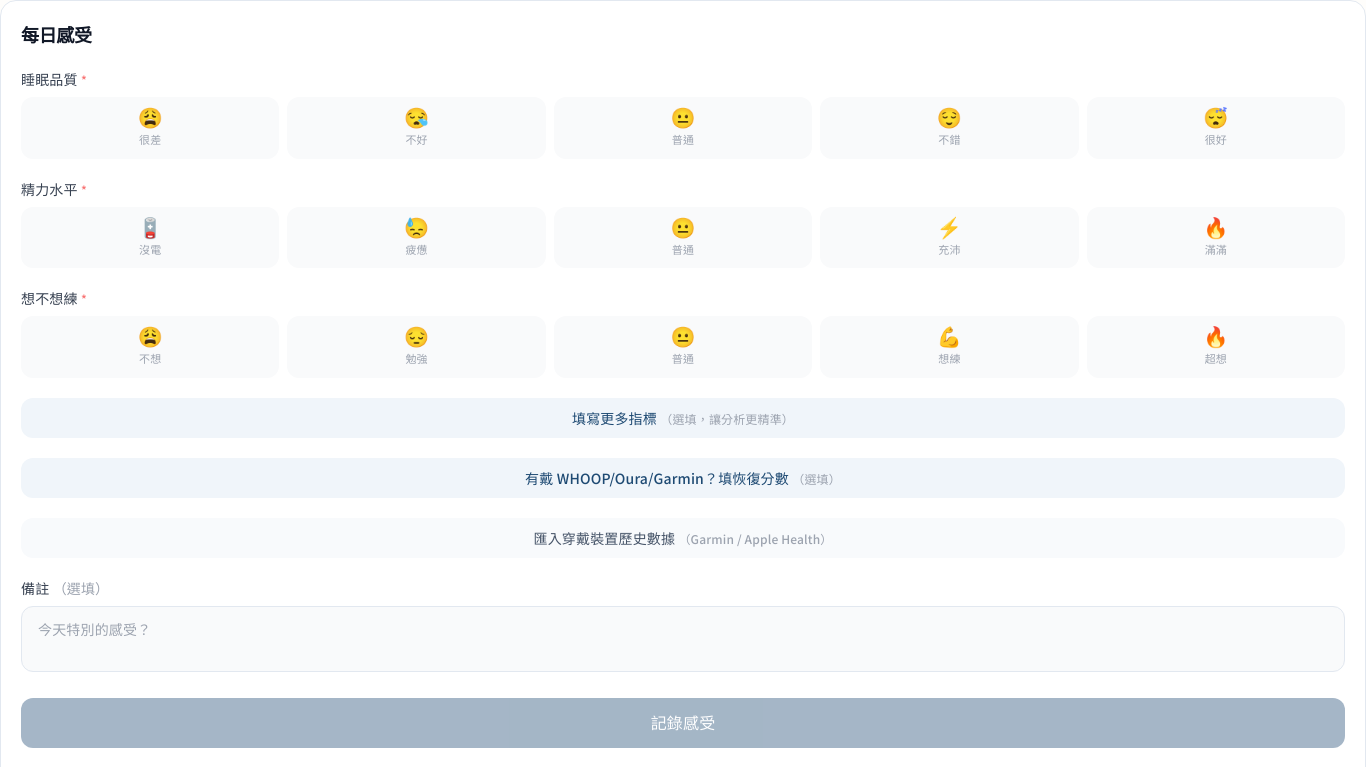
DailyWellness › enables the submit button after all three core fields are selected
The image size is (1366, 767).
Click the text "😌" at (949, 117), box [937,107,962,127]
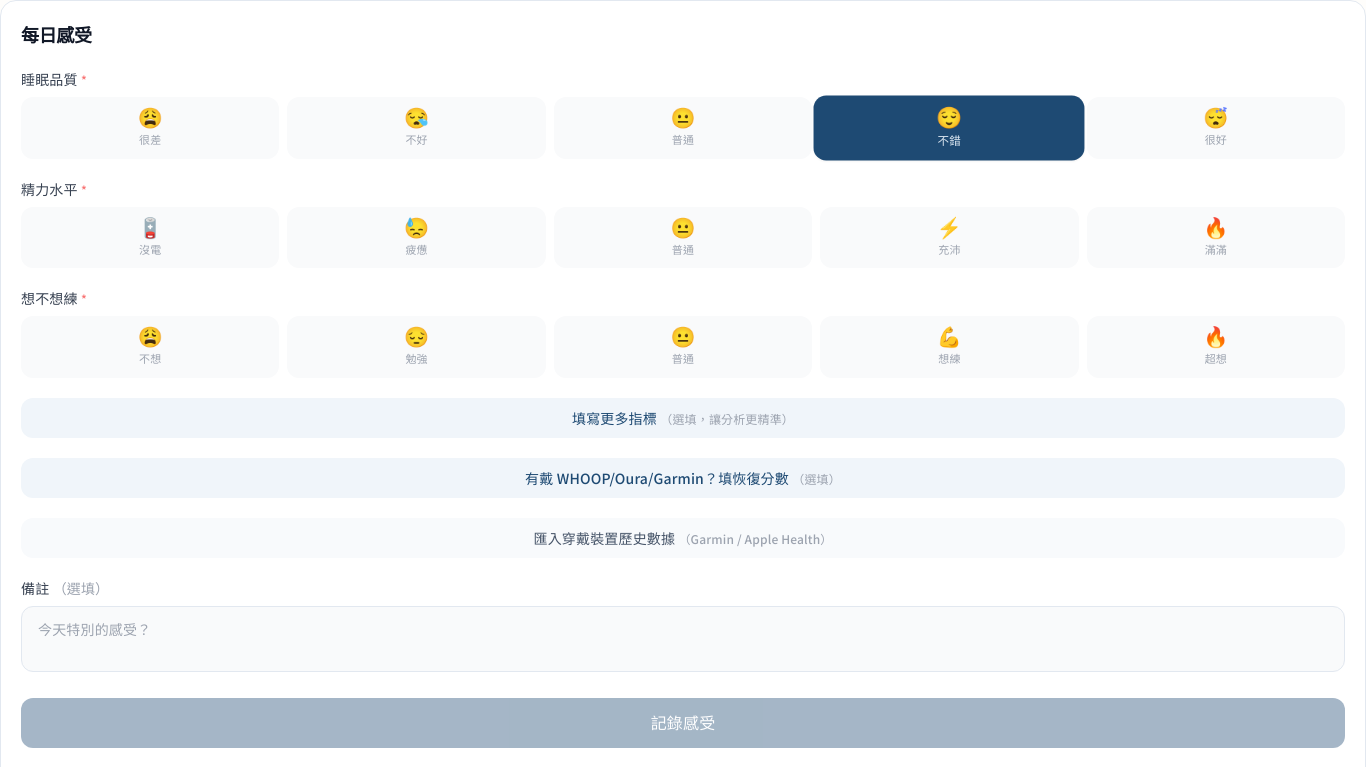
Click the text "⚡" at (949, 227), box [937,217,962,237]
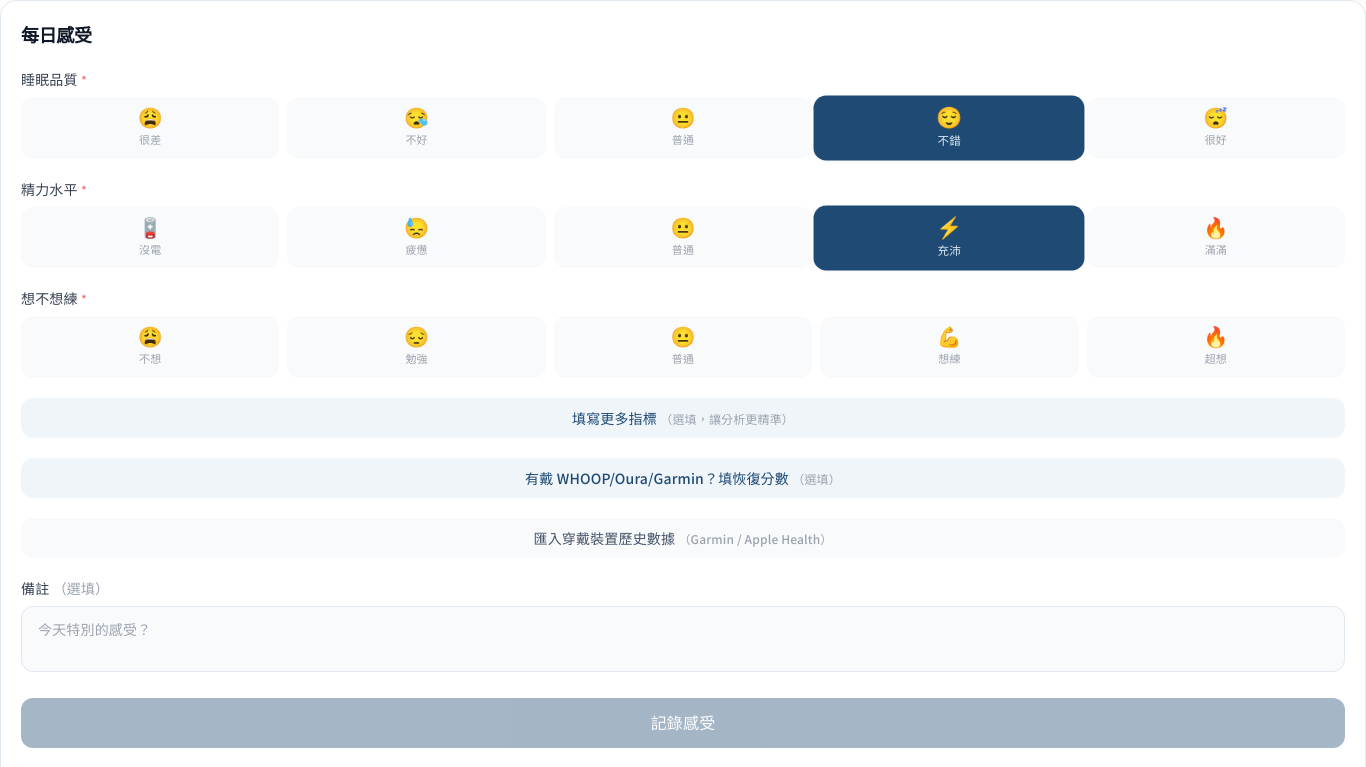
Click the text "💪" at (949, 336), box [937,326,962,346]
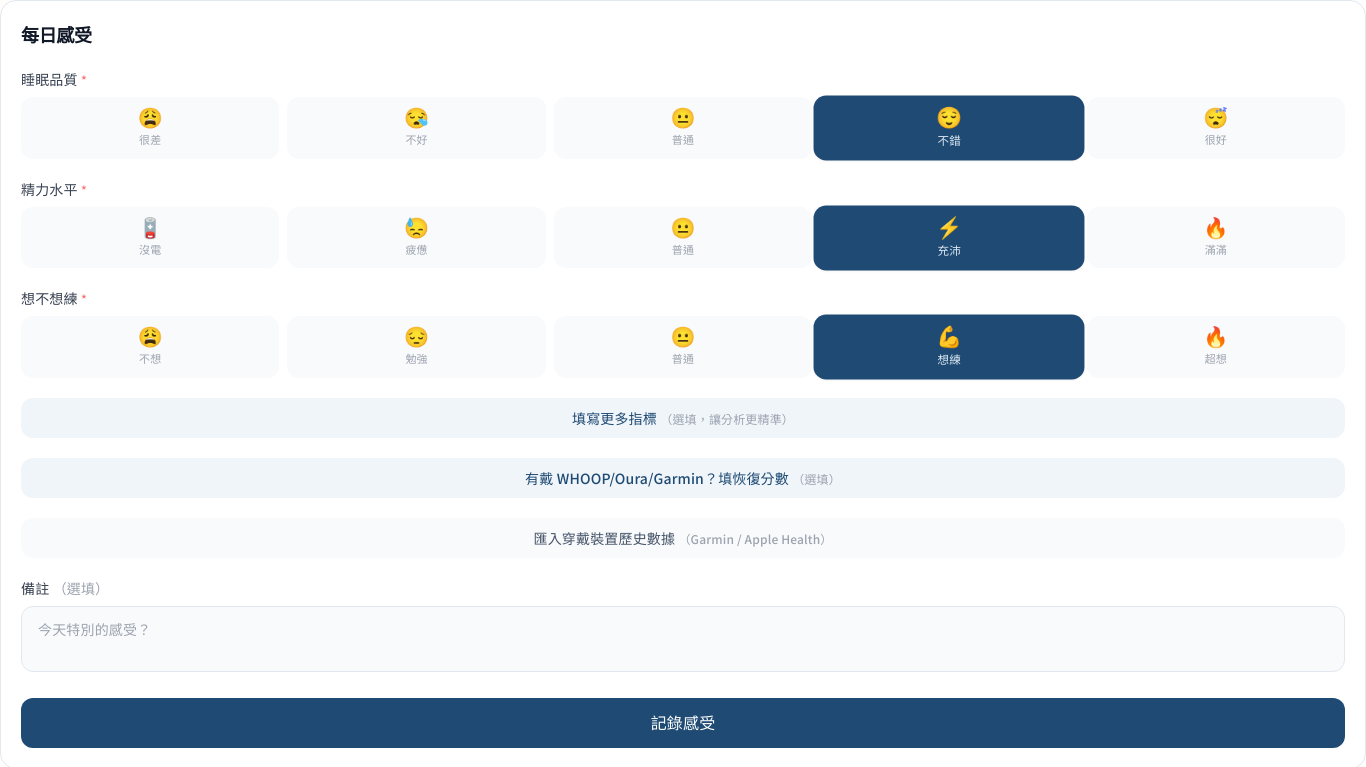
Expected: the button "記錄感受" is enabled, [21,698,1345,748]
